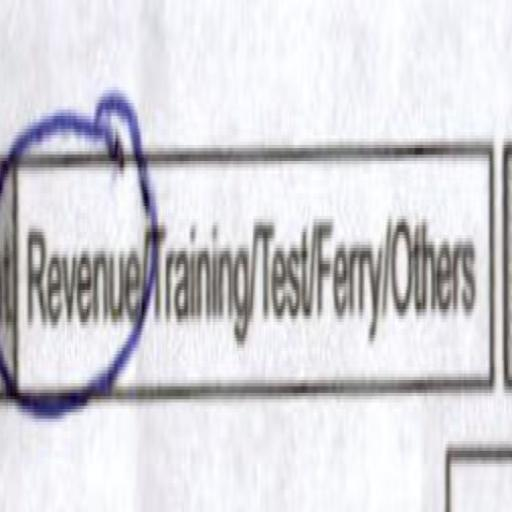check: (20, 0, 148, 501)
